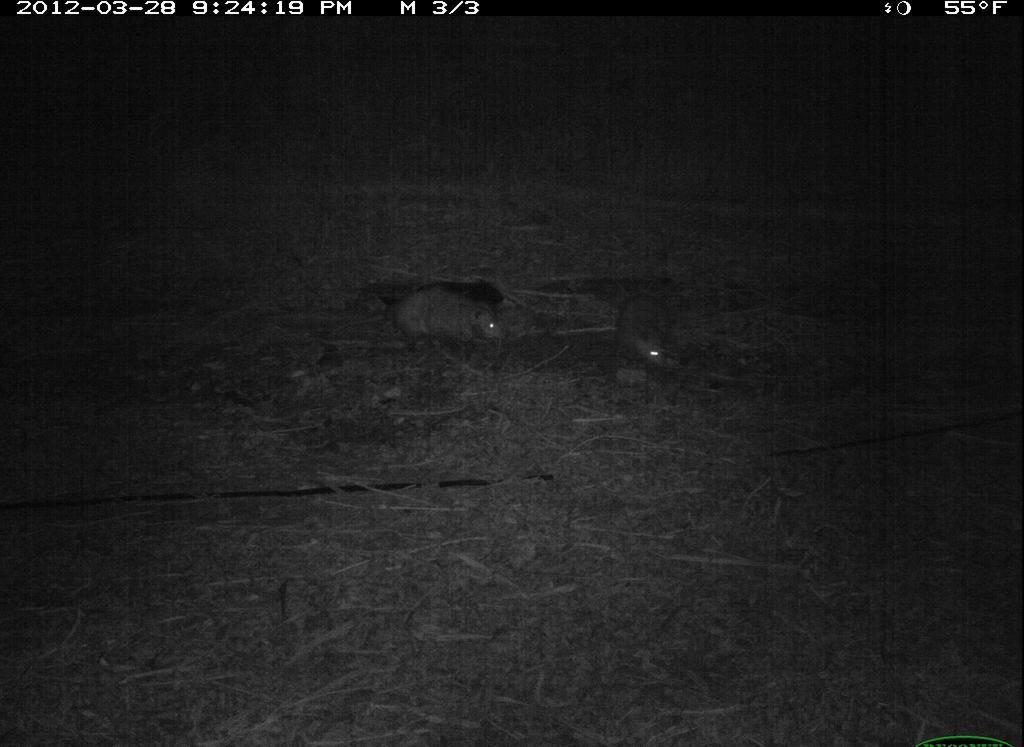opossum: (382, 276, 513, 364), (598, 282, 698, 377)
